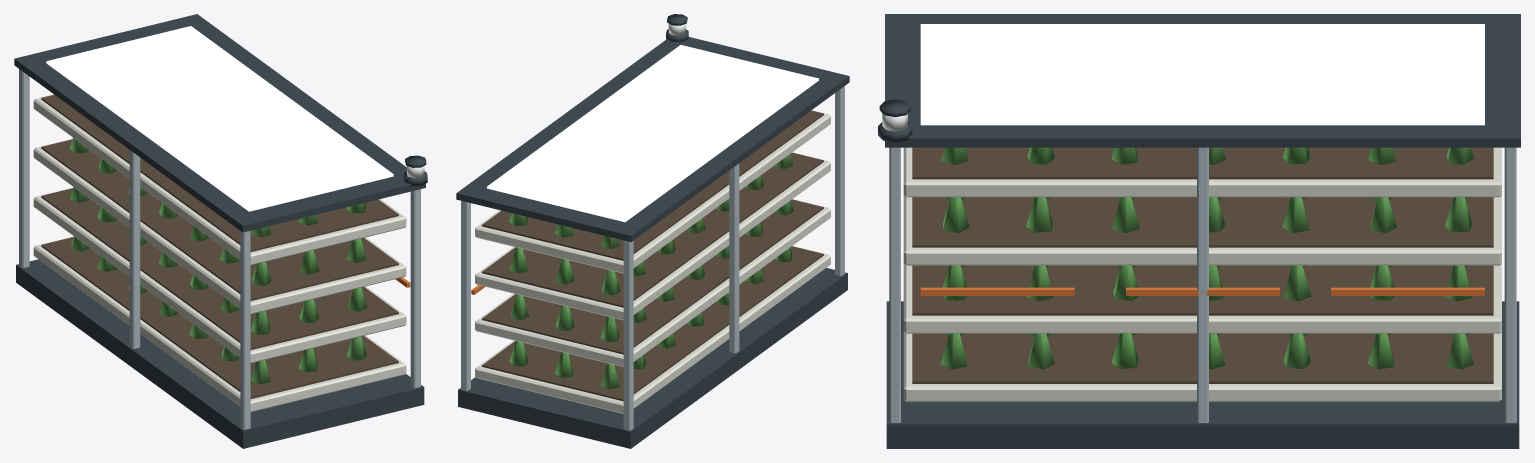
Rendered from verticalfarm.glb.
The picture shows the model from 3 angles, left to right: view 1: azimuth 30°, elevation 25°; view 2: azimuth 150°, elevation 25°; view 3: azimuth 270°, elevation 25°; orthographic projection. The views are drawn at different scales.
Parts seen in each view (by area): view 1: Tower, Plants.001, Lamp.001; view 2: Tower, Plants.001, Lamp.001; view 3: Tower, Plants.001, Lamp.001.
Part boxes in pixels (x1,y1,x2,y2): Tower: (14,14,425,448); Plants.001: (69,138,367,384); Lamp.001: (404,155,427,186); Tower: (456,36,849,448); Plants.001: (509,154,793,389); Lamp.001: (666,14,688,42); Tower: (885,14,1520,448); Plants.001: (940,147,1473,369); Lamp.001: (878,99,912,142).
Size of the model in its own units: 1.76 by 2.19 by 3.76.
